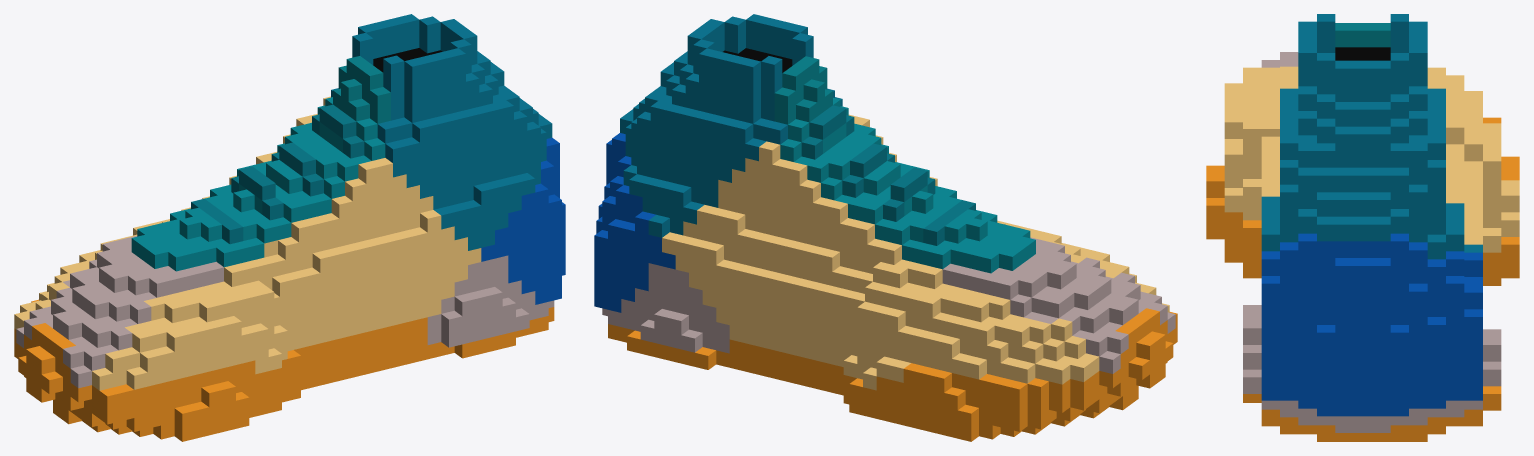
File: Happy Sea.fbx
The picture shows the model from 3 angles, left to right: view 1: azimuth 30°, elevation 25°; view 2: azimuth 150°, elevation 25°; view 3: azimuth 270°, elevation 25°; orthographic projection. The views are drawn at different scales.
Visible parts, largest first — view 1: Untitled; view 2: Untitled; view 3: Untitled.
Part boxes in pixels (x1,y1,x2,y2): Untitled: (14,14,565,441); Untitled: (594,14,1177,441); Untitled: (1206,14,1519,441).
Size of the model in its own units: 390 by 200 by 170.
